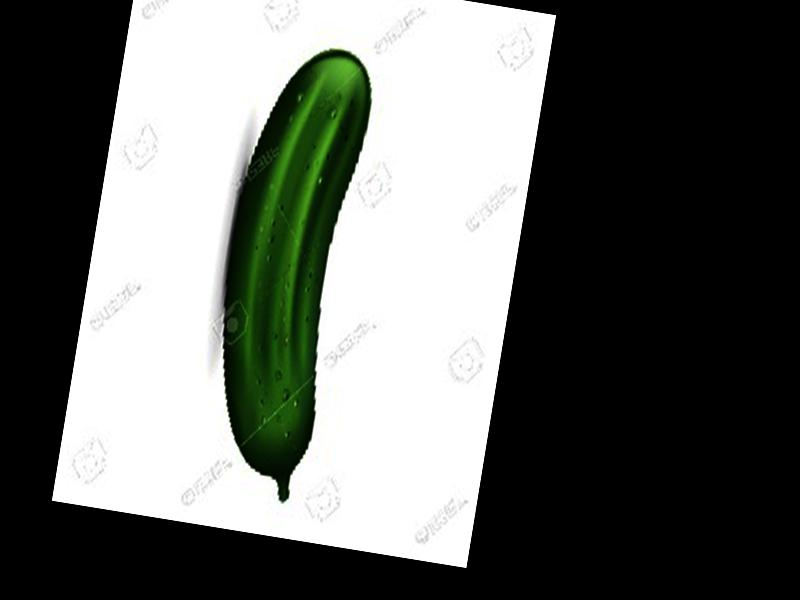Cucumber: (190, 37, 378, 504)
